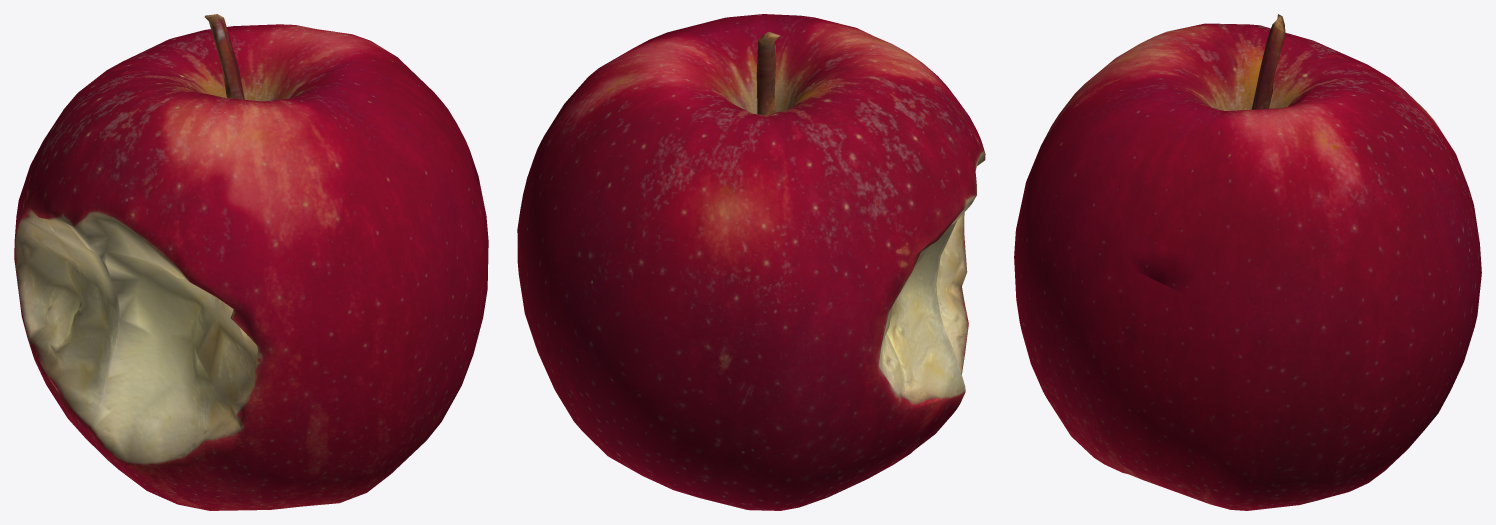
The model's file is Apple.glb.
3 views of the same model, side by side, from view 1: azimuth 30°, elevation 25°; view 2: azimuth 150°, elevation 25°; view 3: azimuth 270°, elevation 25° (orthographic). The views are drawn at different scales.
Visible parts, largest first — view 1: tgzpdhlpa_LOD0_TIER2_000; view 2: tgzpdhlpa_LOD0_TIER2_000; view 3: tgzpdhlpa_LOD0_TIER2_000.
Part boxes in pixels (x1=…): tgzpdhlpa_LOD0_TIER2_000: x1=14, y1=14, x2=488, y2=510; tgzpdhlpa_LOD0_TIER2_000: x1=517, y1=14, x2=985, y2=510; tgzpdhlpa_LOD0_TIER2_000: x1=1014, y1=14, x2=1481, y2=510.
Bounding box in the file's own units: 0.7563 × 0.8 × 0.7644.
1 material, 1 textured.
